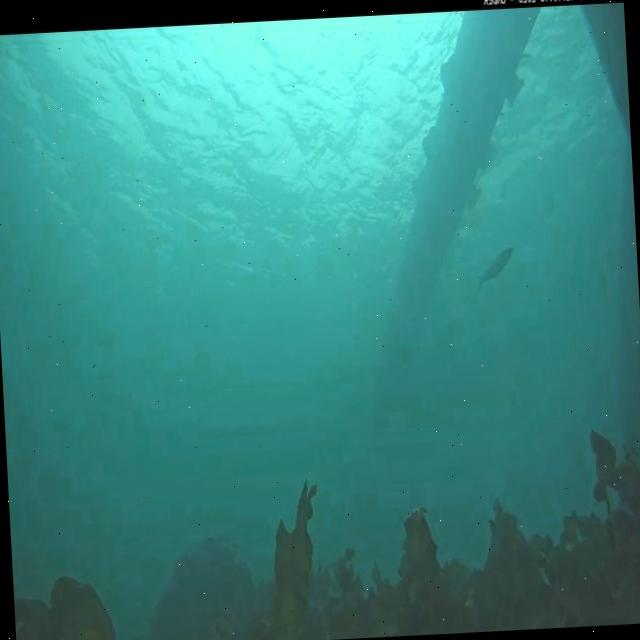fish: (475, 245, 517, 288)
